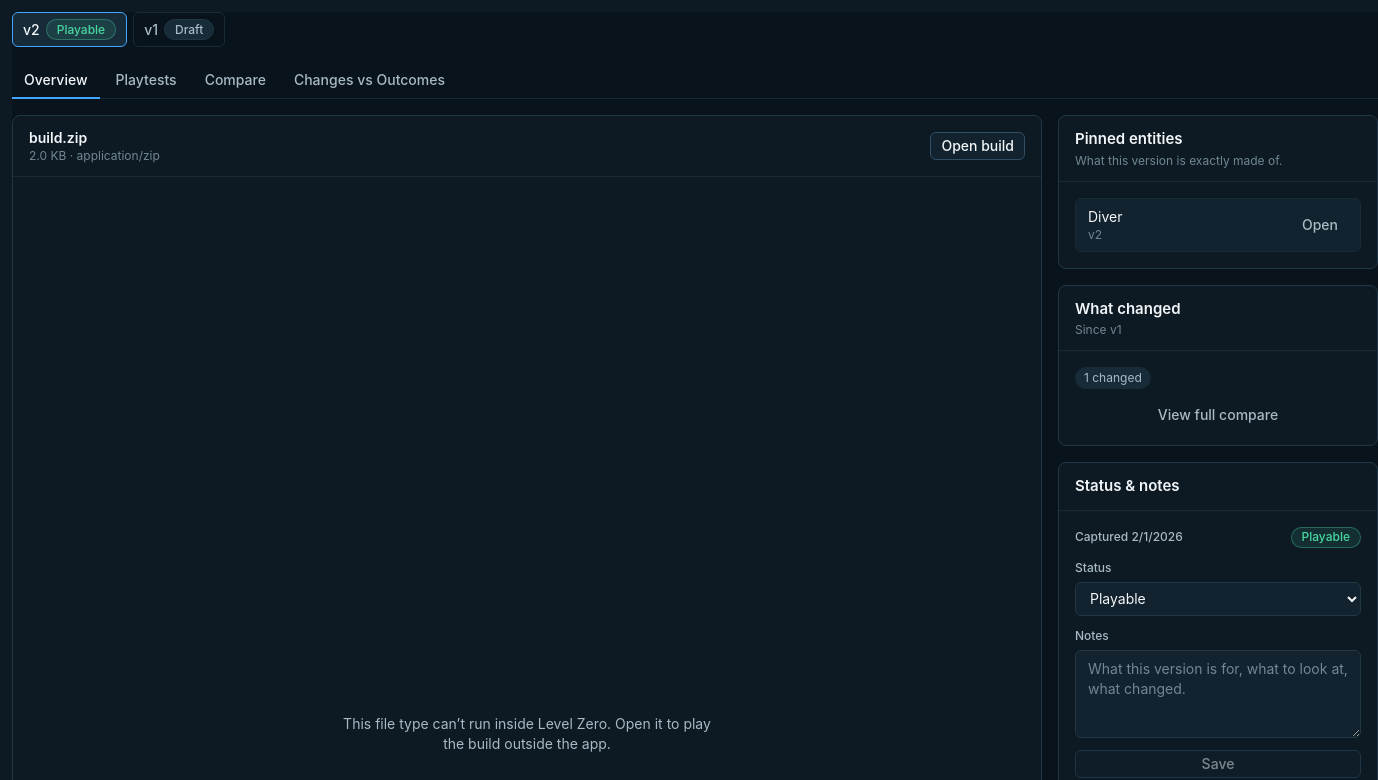
PrototypeDetailBody › opens on the latest version and switches versions on demand, each rendering its own exact pins
The image size is (1378, 780).
Expected: the text "Diver" is shown, [1088,206,1122,226]
Expected: the link "Open build" is shown, [930,132,1025,160]
Click the tab "v1 Draft": click(179, 30) [133,12,225,47]
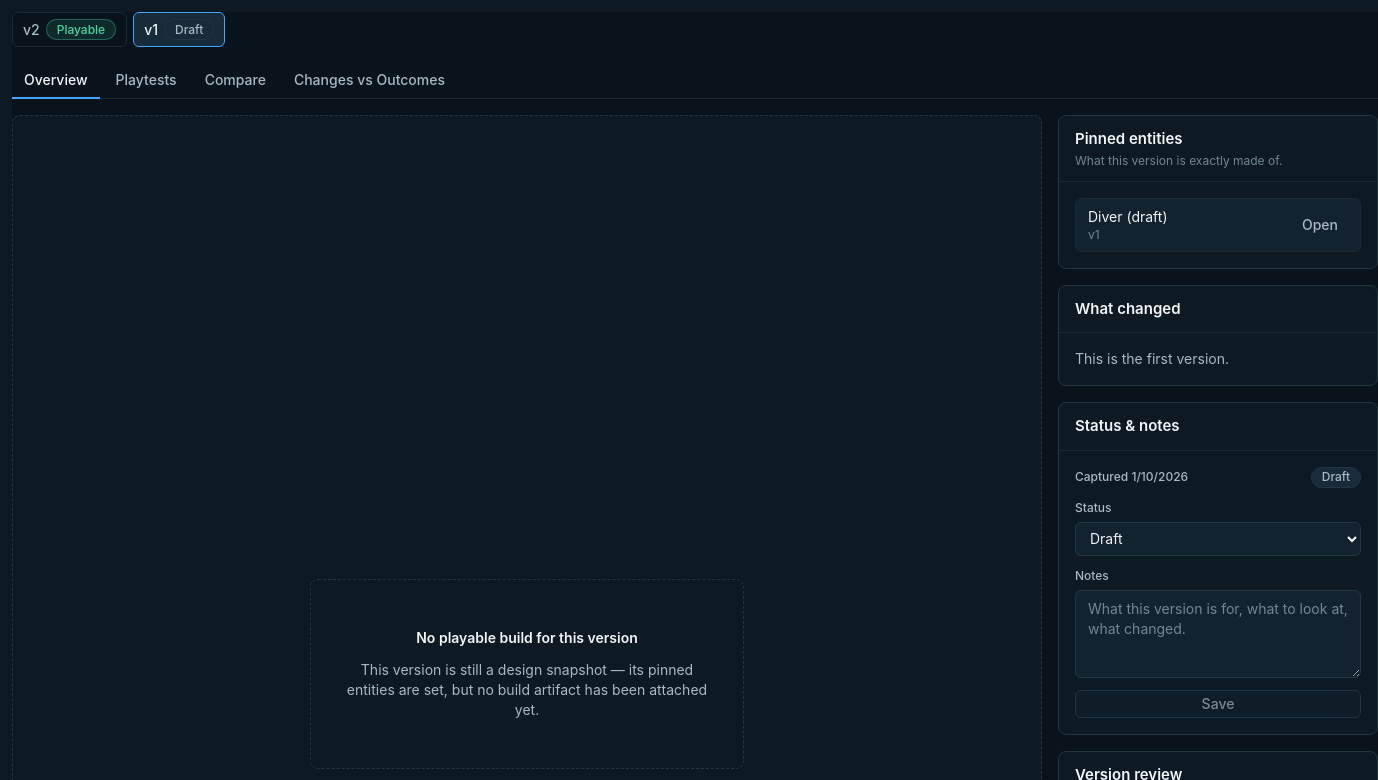
Result: the text "Diver (draft)" is shown at [1088,206,1168,226]
Result: the text "No playable build for this version" is shown at [416,628,638,648]
Result: the link "Open build" is gone
